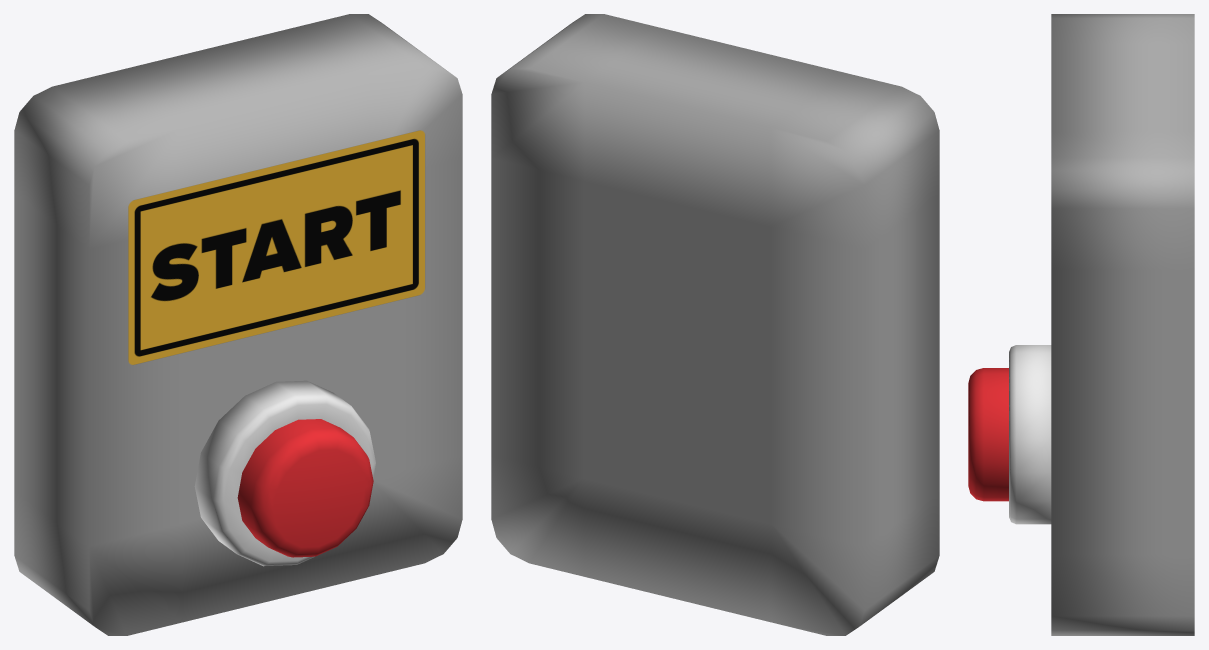
The model's file is start_button.glb.
3 renders of one model, left to right at view 1: azimuth 30°, elevation 25°; view 2: azimuth 150°, elevation 25°; view 3: azimuth 270°, elevation 25°, orthographic. The views are drawn at different scales.
Parts seen in each view (by area): view 1: Cube, Plane, Button, Cylinder; view 2: Cube; view 3: Cube, Cylinder, Button.
Part boxes in pixels (bbox=[...]): Cube: bbox=[14, 14, 462, 635]; Plane: bbox=[128, 130, 424, 364]; Button: bbox=[237, 419, 373, 557]; Cylinder: bbox=[194, 380, 375, 566]; Cube: bbox=[491, 14, 939, 635]; Cube: bbox=[1051, 14, 1194, 635]; Cylinder: bbox=[1009, 345, 1051, 524]; Button: bbox=[968, 368, 1008, 501].
Size of the model in its own units: 0.1692 by 0.2141 by 0.0928.
Materials: 3 (1 with a texture image).
